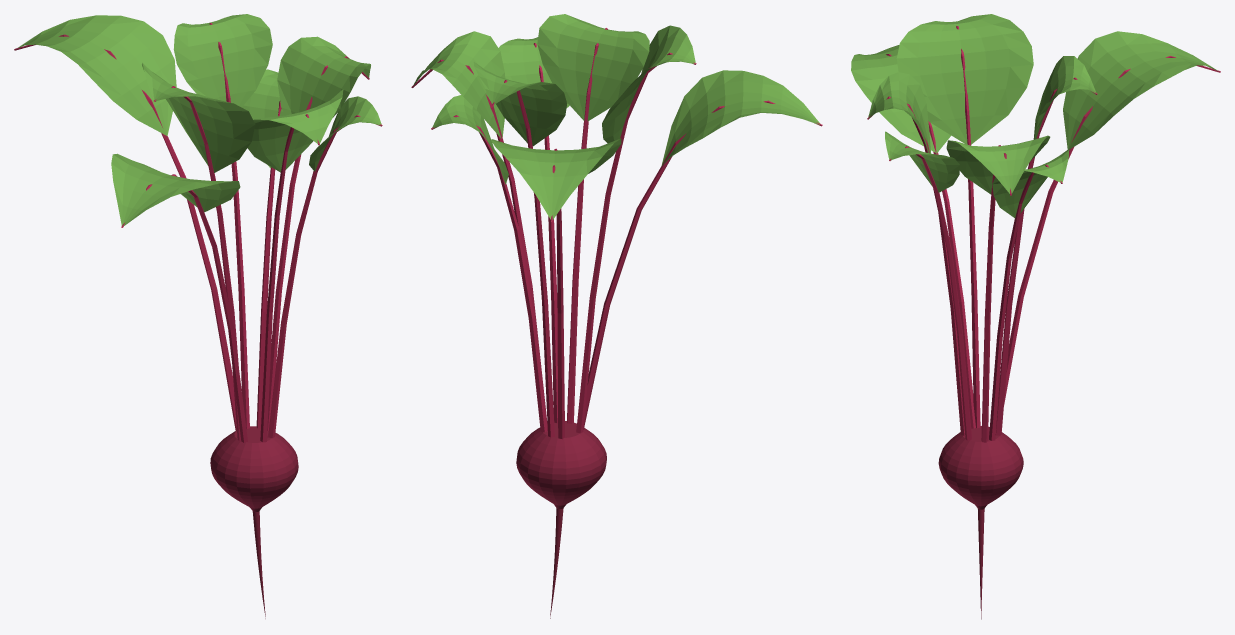
The model's file is beetroot_harvest_v05.glb.
The picture shows the model from 3 angles, left to right: view 1: azimuth 30°, elevation 25°; view 2: azimuth 150°, elevation 25°; view 3: azimuth 270°, elevation 25°; orthographic projection. The views are drawn at different scales.
Visible parts, largest first — view 1: plant; view 2: plant; view 3: plant.
Part boxes in pixels (x1,y1,x2,y2): plant: [14, 14, 382, 618]; plant: [411, 14, 822, 618]; plant: [851, 14, 1220, 619].
Size of the model in its own units: 0.3044 by 0.5172 by 0.3138.
Materials: 1 (1 with a texture image).
